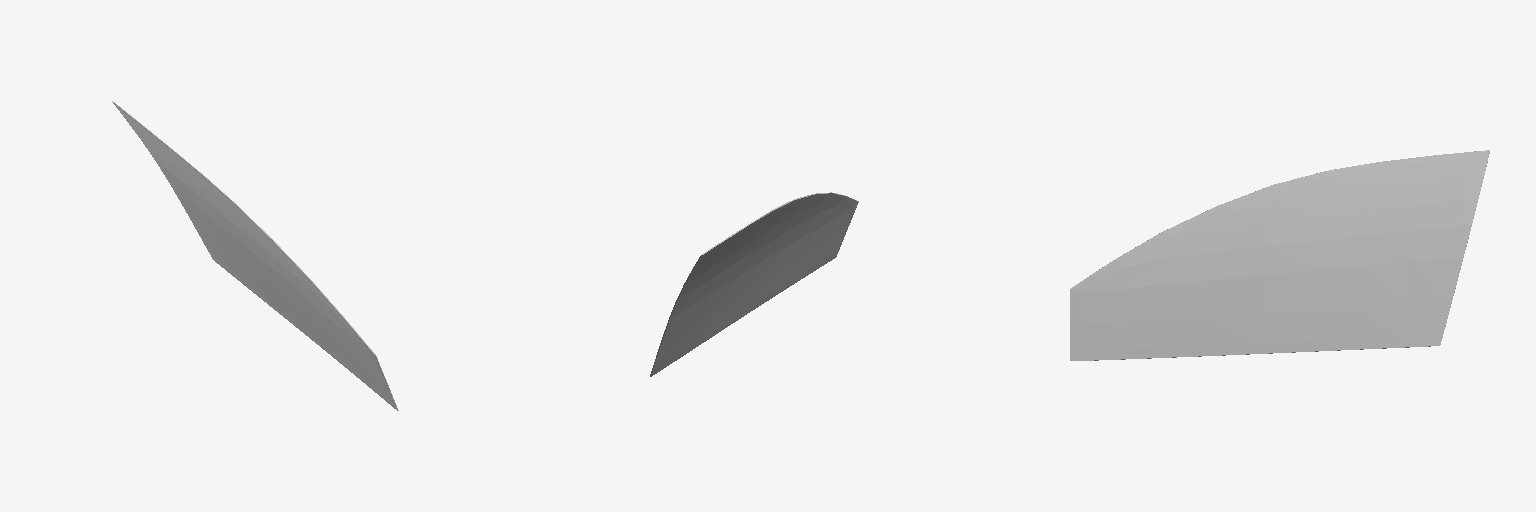
Rendered from geamfata.obj.
3 renders of one model, left to right at view 1: azimuth 30°, elevation 25°; view 2: azimuth 150°, elevation 25°; view 3: azimuth 270°, elevation 25°, orthographic.
Parts seen in each view (by area): view 1: Audi_A6.012; view 2: Audi_A6.012; view 3: Audi_A6.012.
Part boxes in pixels (x1,y1,x2,y2): Audi_A6.012: (112, 101, 398, 410); Audi_A6.012: (650, 192, 858, 376); Audi_A6.012: (1070, 150, 1489, 360).
Size of the model in its own units: 0.2263 by 0.4861 by 1.06.